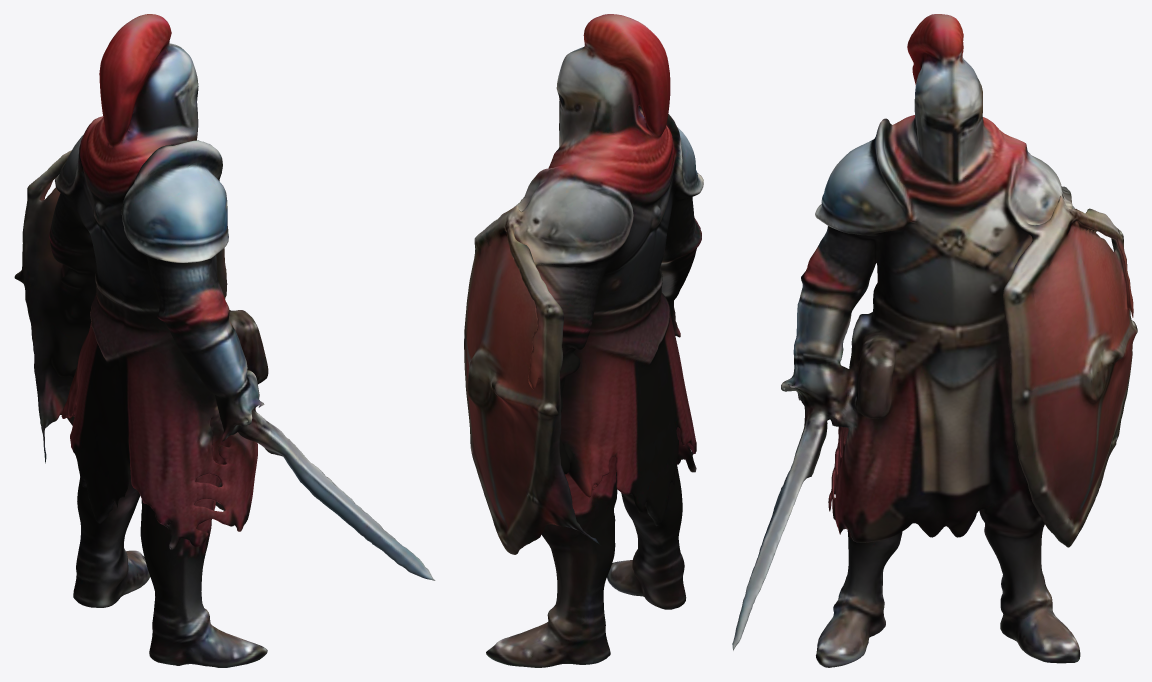
File: human_soldier.glb
3 renders of one model, left to right at view 1: azimuth 30°, elevation 25°; view 2: azimuth 150°, elevation 25°; view 3: azimuth 270°, elevation 25°, orthographic.
Visible parts, largest first — view 1: tripo_node_09ec966f-eb79-4bef-bba8-3c3c7e24f920; view 2: tripo_node_09ec966f-eb79-4bef-bba8-3c3c7e24f920; view 3: tripo_node_09ec966f-eb79-4bef-bba8-3c3c7e24f920.
Boxes of the visible parts, x1,y1,x2,y2 form: tripo_node_09ec966f-eb79-4bef-bba8-3c3c7e24f920: [14, 14, 435, 667]; tripo_node_09ec966f-eb79-4bef-bba8-3c3c7e24f920: [464, 14, 703, 667]; tripo_node_09ec966f-eb79-4bef-bba8-3c3c7e24f920: [732, 14, 1137, 667].
Size of the model in its own units: 0.3452 by 0.859 by 0.5074.
1 material, 1 textured.
